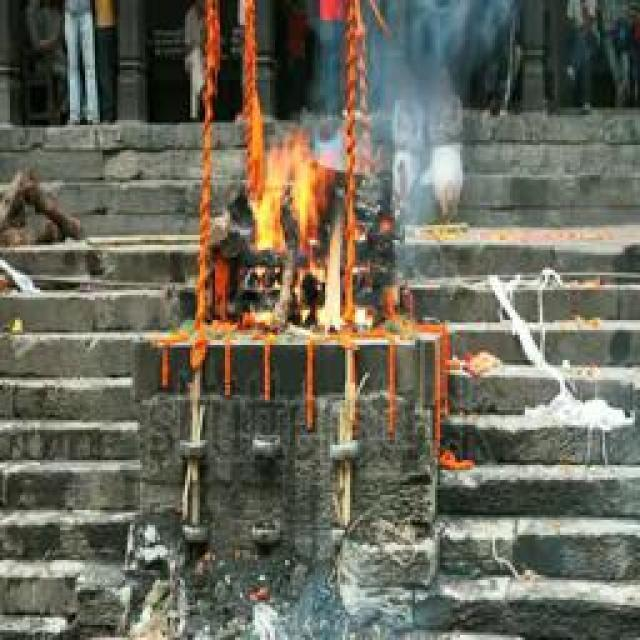Fire: (254, 119, 345, 335)
